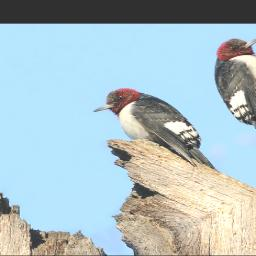Woodpecker: (86, 73, 225, 196)
